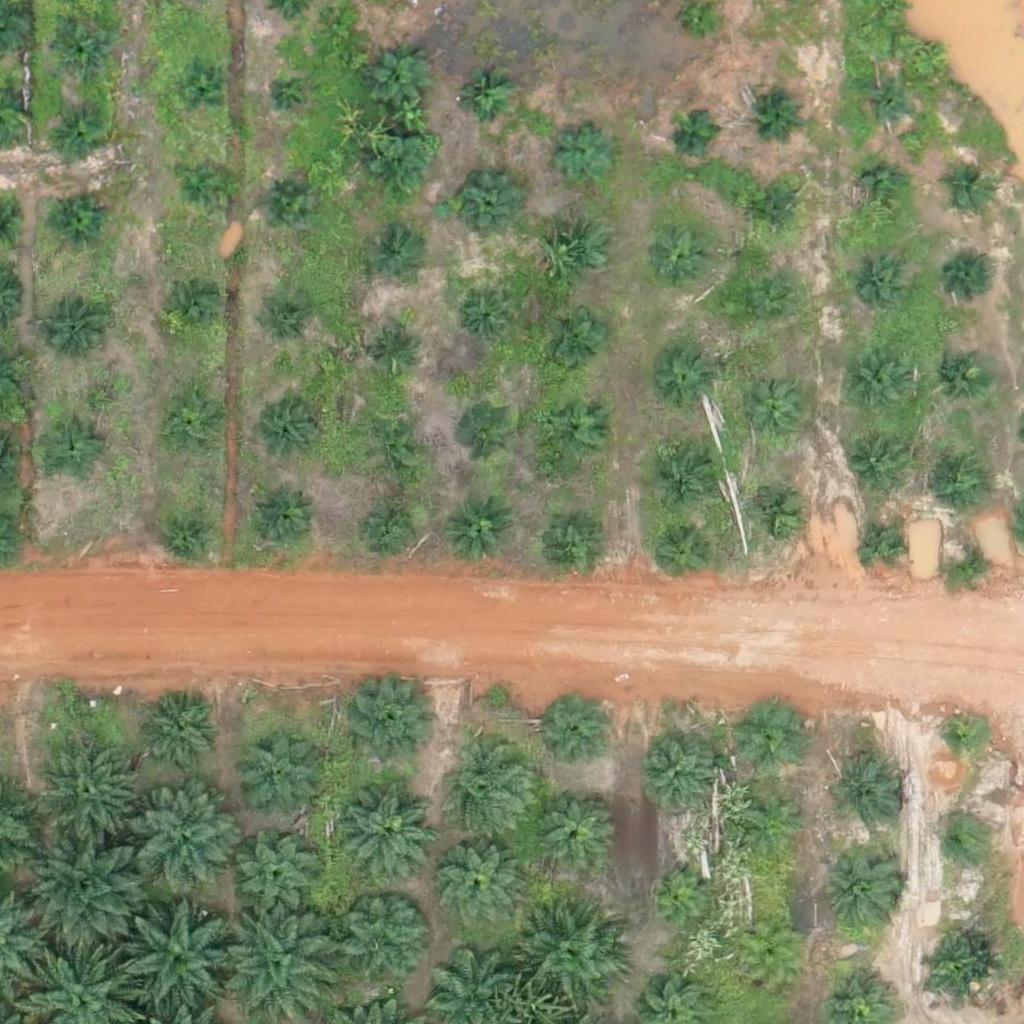Kelapa_Sawit: (221, 893, 346, 1019), (115, 897, 240, 1023), (26, 826, 151, 952), (130, 781, 243, 894), (518, 905, 618, 1005), (440, 741, 540, 841), (335, 774, 435, 874), (341, 891, 429, 979), (349, 675, 437, 763), (230, 831, 318, 919), (46, 748, 134, 836), (438, 841, 525, 930), (637, 730, 724, 818), (532, 787, 619, 875), (229, 731, 316, 819), (827, 752, 902, 828), (537, 697, 612, 773), (918, 933, 993, 1009), (827, 849, 902, 925), (143, 696, 218, 771), (44, 296, 107, 359), (731, 279, 794, 342), (846, 255, 909, 318), (454, 72, 517, 135), (458, 172, 521, 235), (445, 499, 508, 562), (844, 352, 907, 415), (254, 482, 317, 545), (165, 389, 228, 452), (155, 500, 218, 563), (541, 397, 604, 460), (539, 504, 602, 567), (455, 404, 518, 467), (651, 521, 714, 584), (740, 702, 803, 765), (931, 448, 994, 511), (845, 433, 908, 496), (736, 924, 799, 987), (368, 48, 431, 111), (161, 279, 224, 341), (542, 311, 604, 374), (653, 226, 715, 289), (552, 124, 614, 187), (655, 443, 717, 506), (367, 417, 429, 480), (652, 347, 714, 410), (746, 798, 808, 861), (741, 385, 803, 448), (746, 483, 808, 546), (931, 343, 993, 406), (370, 137, 432, 200), (548, 224, 610, 287), (362, 499, 424, 561), (645, 864, 707, 926), (258, 404, 320, 466), (858, 518, 908, 569), (944, 539, 994, 590), (53, 195, 103, 245), (57, 27, 107, 77), (59, 109, 109, 159), (46, 424, 96, 474), (265, 305, 315, 355), (367, 237, 417, 287), (375, 330, 425, 380), (458, 293, 508, 343), (261, 177, 311, 227), (947, 254, 997, 304), (754, 85, 804, 135), (672, 110, 722, 160), (179, 157, 229, 207), (861, 80, 911, 130), (857, 165, 907, 215), (943, 164, 993, 214), (937, 713, 987, 763), (933, 820, 983, 870), (751, 189, 801, 239), (265, 69, 315, 119), (178, 65, 228, 115)
